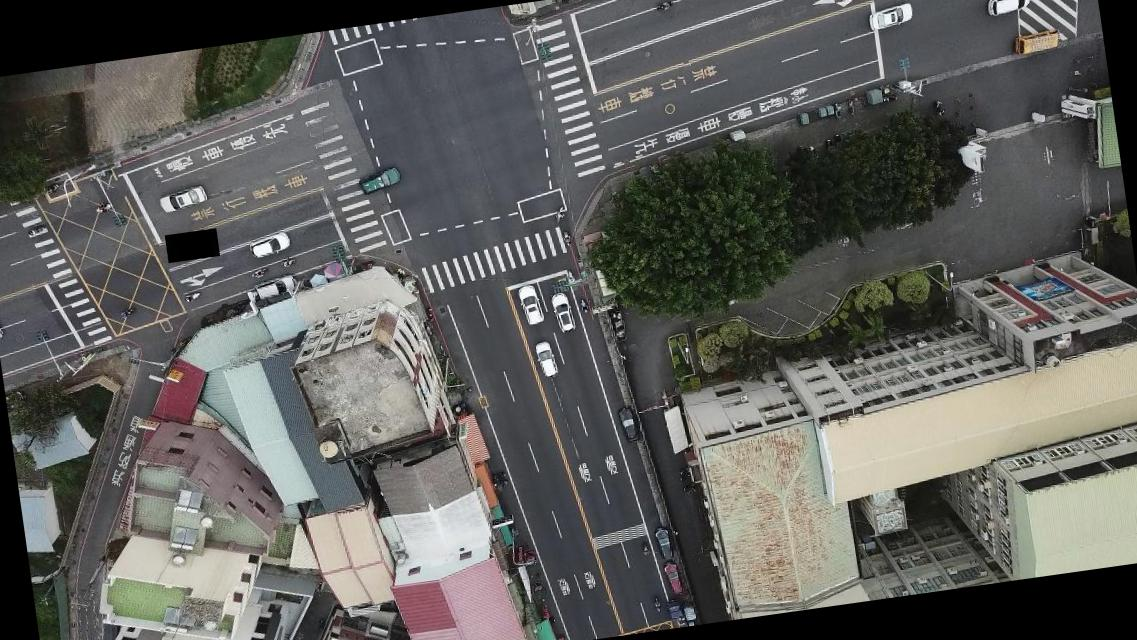vehicle: (156, 181, 209, 215), (867, 0, 916, 33), (356, 164, 403, 196), (516, 282, 546, 328), (1014, 27, 1063, 55), (247, 230, 293, 259), (550, 290, 577, 336), (534, 339, 559, 382), (616, 404, 640, 444), (984, 0, 1036, 18), (663, 561, 686, 597), (655, 526, 674, 561)
